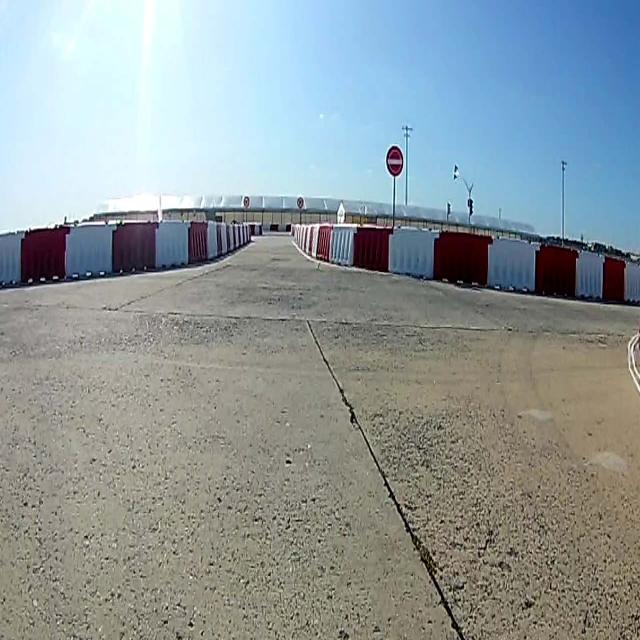girisyok: (387, 146, 403, 176)
